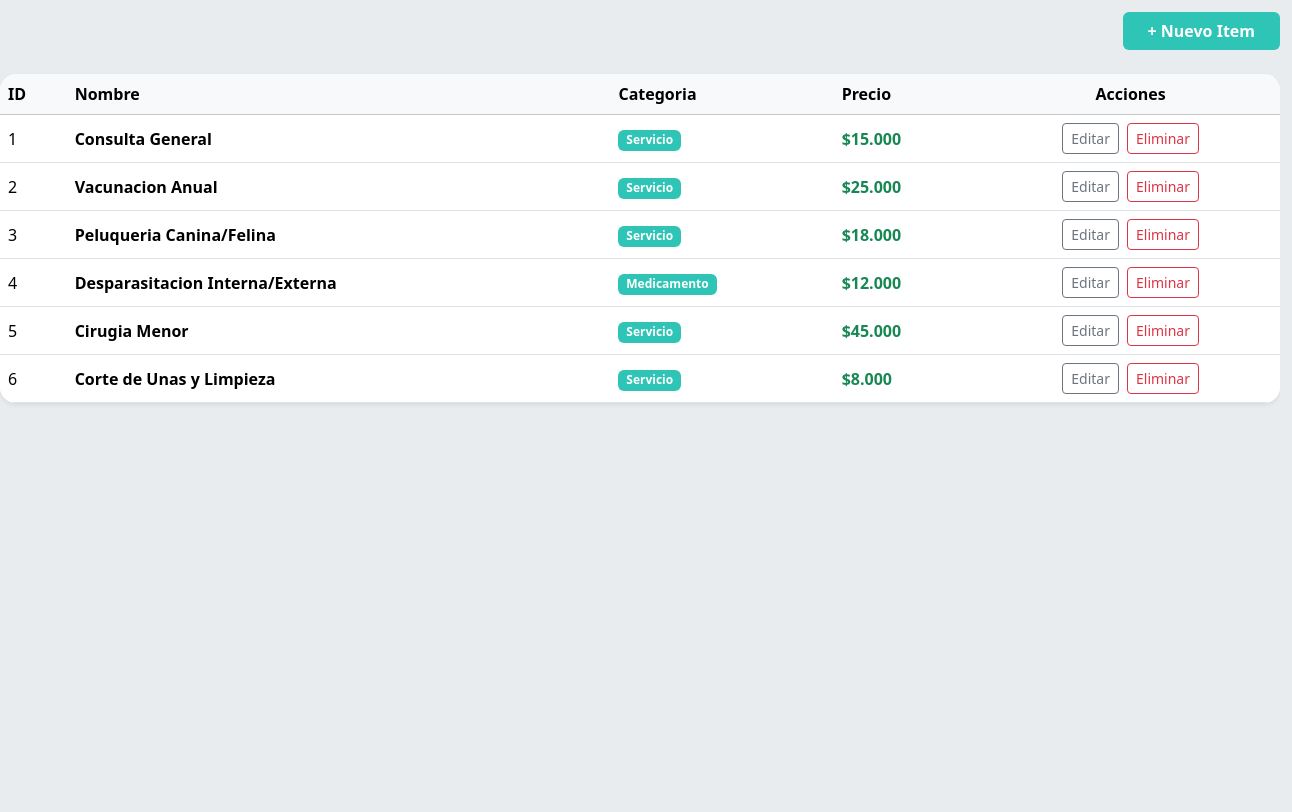
Prueba 6: CRUD Catalogo - Actualizar › permite editar el precio de un servicio existente y reflejar el cambio
This screenshot has width=1292, height=812.
Click the button "Editar" in the row of "Consulta General": click(1091, 138) [1062,123,1119,154]
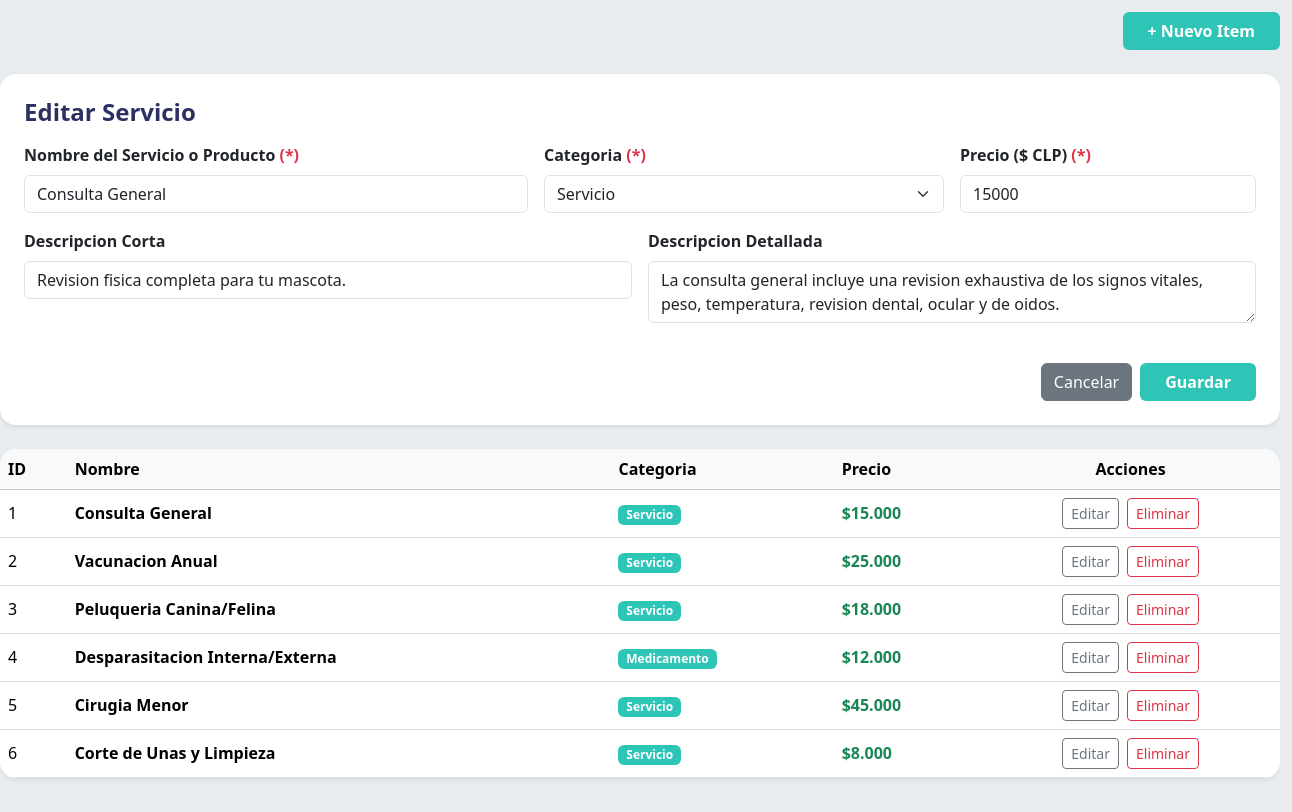
Replace the text in the number field with placeholder "Ej: 15000" with "19990": (1108, 194) [960,175,1256,213]
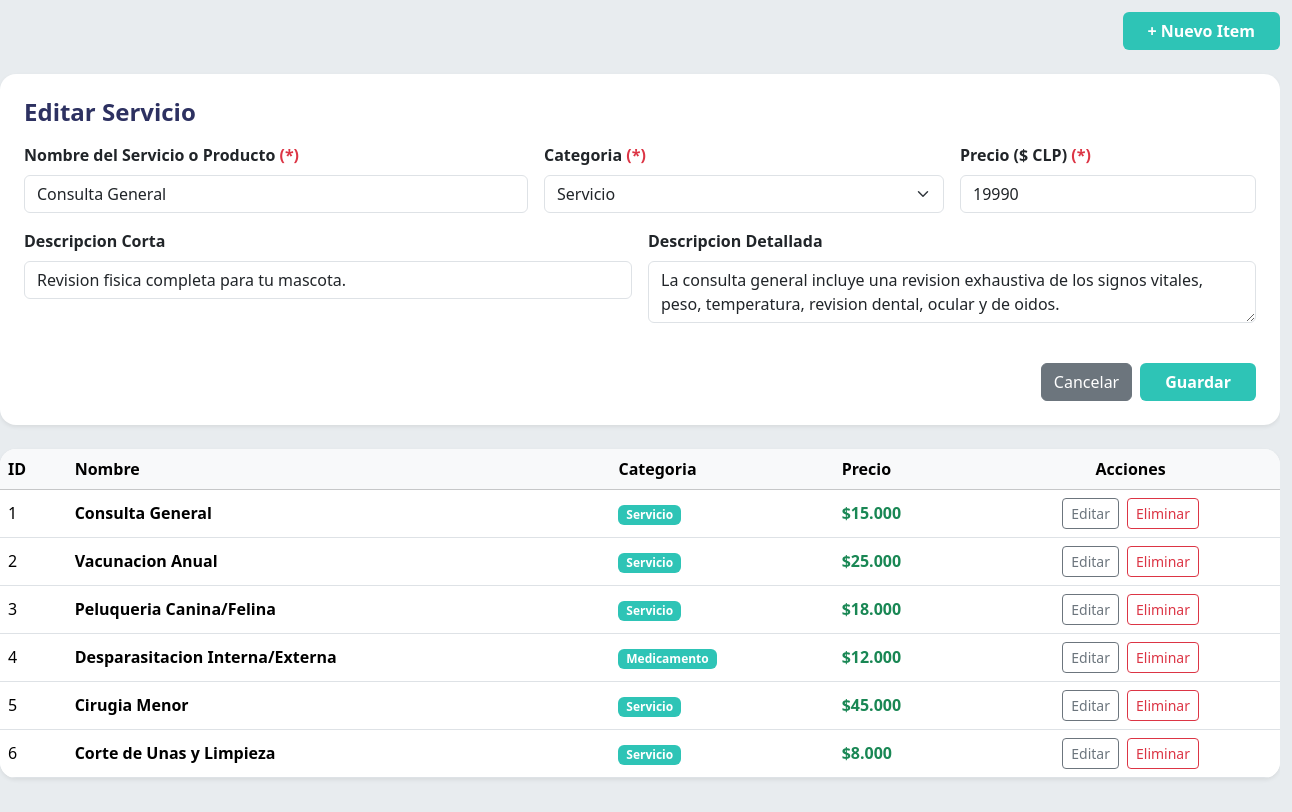
Click the button "Guardar": click(1198, 382) [1140,363,1256,401]
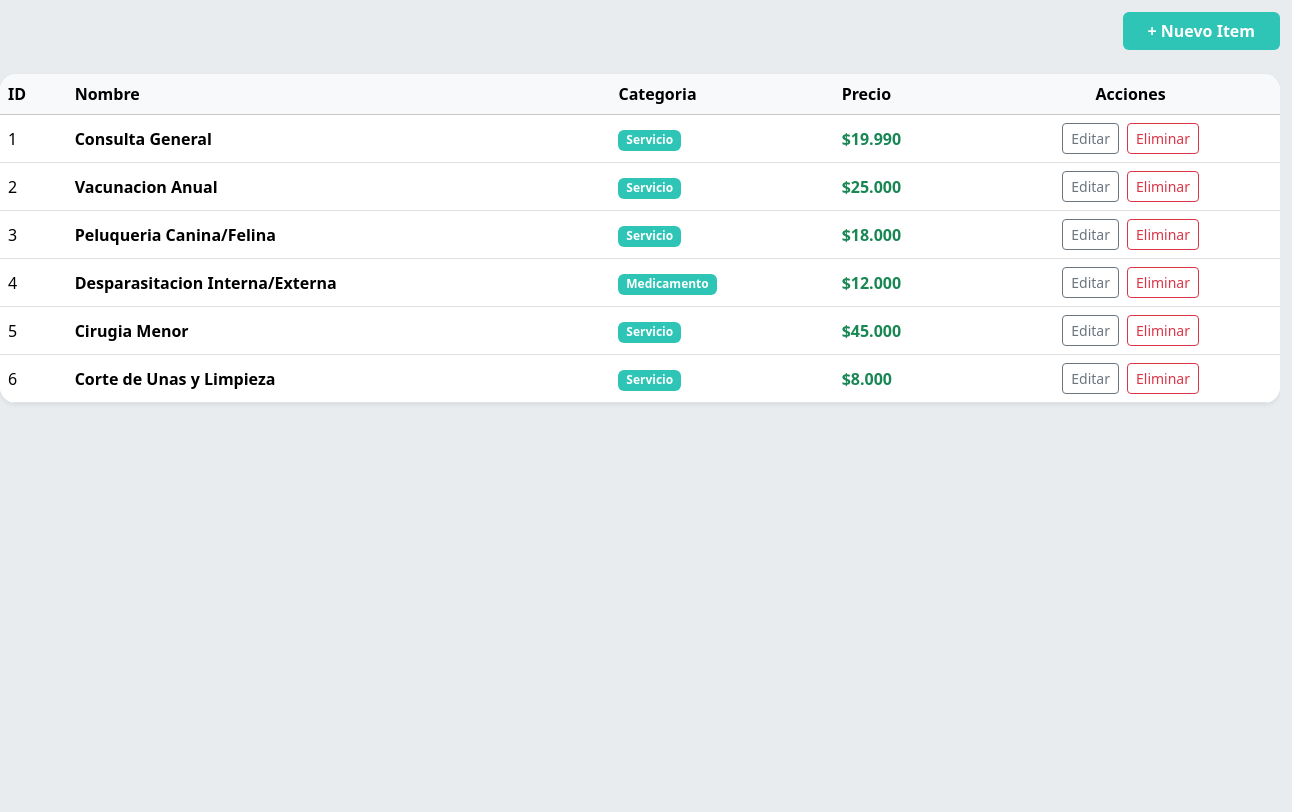
Expected: the text "$19.990" is shown, [834,114,981,162]
